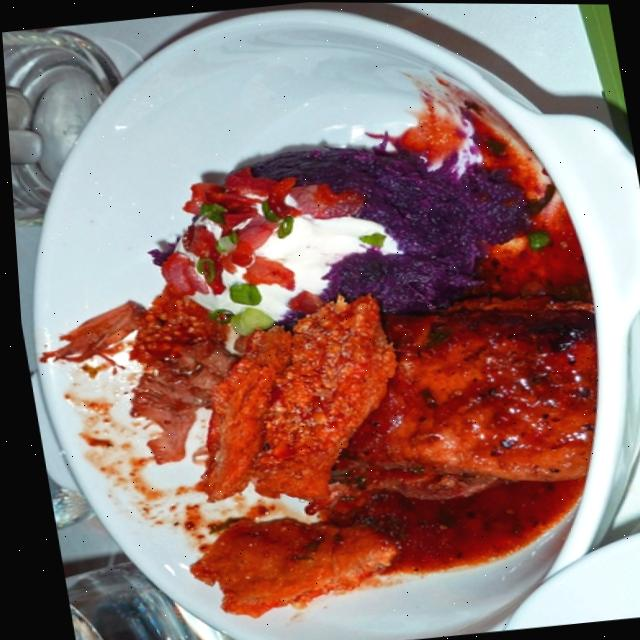牛肉菜式: (1, 11, 640, 640)
